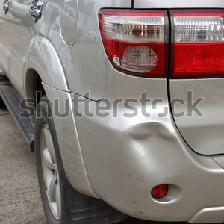bumper_dent: (81, 86, 221, 201)
